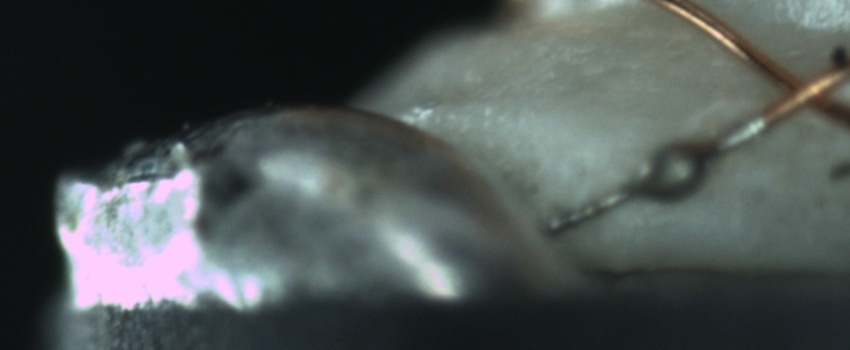CL: (755, 53, 841, 125)
TB: (635, 131, 719, 212)
TS: (544, 113, 765, 234)
TTCW: (548, 91, 799, 237)
